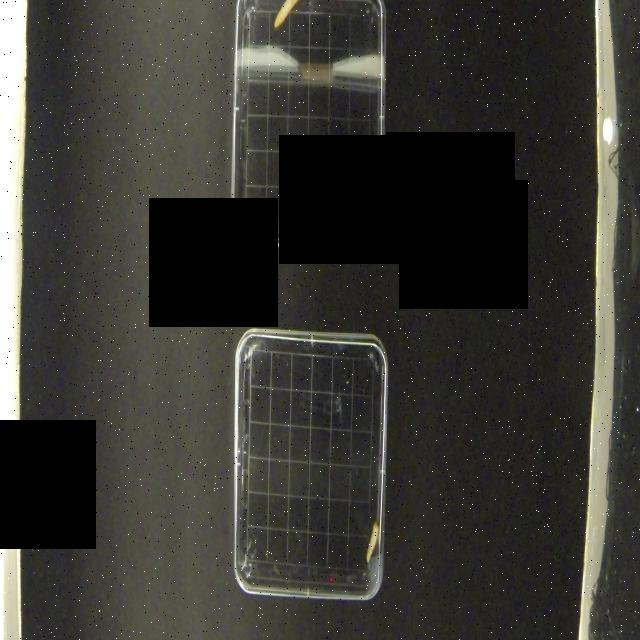larva: (364, 520, 380, 564)
